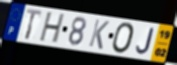8: (68, 16, 88, 47)
H: (37, 11, 66, 45)
J: (135, 28, 155, 56)
K: (88, 18, 111, 51)
O: (111, 22, 136, 55)
T: (24, 8, 44, 41)
